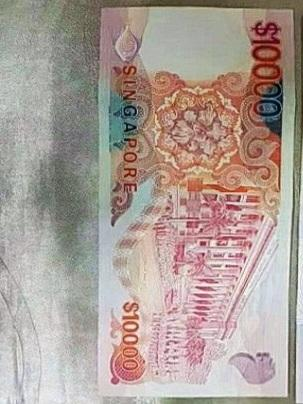10000SingaporeDollar: (99, 9, 288, 396)
